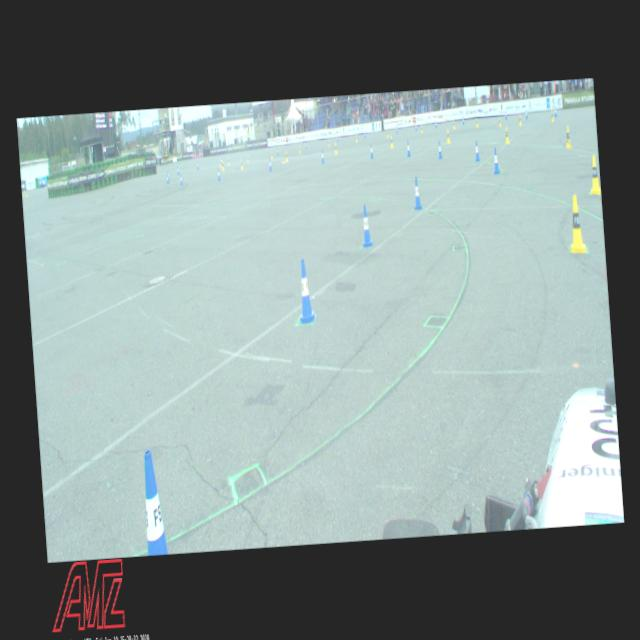blue_cone: (140, 448, 168, 554), (296, 258, 314, 322), (360, 204, 373, 246), (412, 176, 422, 208), (492, 146, 499, 174), (473, 140, 480, 160), (405, 140, 410, 156), (438, 140, 442, 158), (268, 157, 272, 170), (370, 144, 373, 158), (321, 149, 324, 163), (524, 109, 528, 118), (217, 168, 220, 179), (196, 160, 199, 169), (176, 166, 179, 174), (180, 173, 182, 184), (554, 105, 556, 116), (166, 173, 168, 184), (167, 170, 169, 180), (504, 110, 506, 120), (434, 120, 436, 128), (462, 116, 464, 124), (414, 123, 416, 130), (396, 126, 398, 132), (337, 134, 338, 142), (364, 130, 365, 137)
large_orange_cone: (200, 148, 203, 158), (198, 148, 201, 158), (193, 149, 196, 158)
orange_cone: (196, 152, 198, 158), (192, 152, 193, 159)
yellow_cone: (566, 194, 586, 253), (586, 154, 600, 194), (564, 126, 572, 148), (504, 125, 509, 144), (446, 128, 450, 143), (550, 110, 554, 121), (518, 114, 521, 125), (285, 150, 288, 161), (498, 116, 501, 126), (221, 160, 224, 170), (475, 117, 478, 127), (240, 158, 243, 168), (227, 157, 230, 166), (219, 158, 222, 167), (390, 135, 392, 148), (270, 150, 273, 158), (452, 120, 455, 128), (334, 142, 336, 153), (328, 138, 330, 148), (420, 124, 422, 132), (355, 134, 357, 142), (386, 130, 388, 138), (298, 146, 300, 152)
